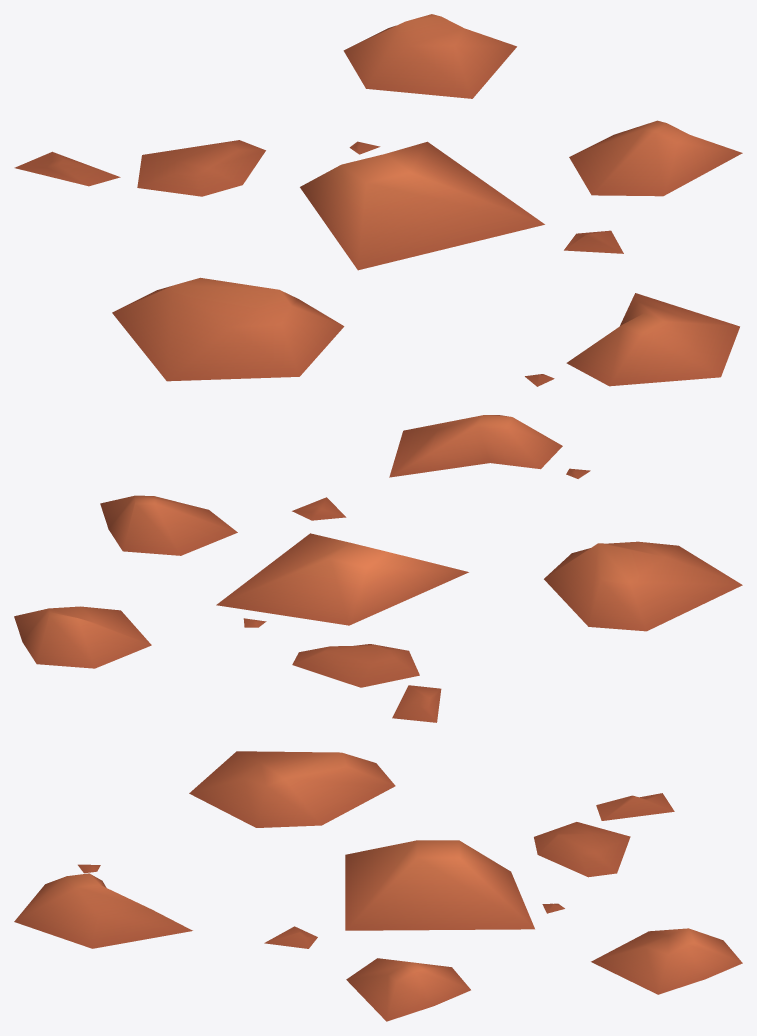
Rendered from Pebbles.006.fbx.
3 renders of one model, top to bottom at view 1: azimuth 30°, elevation 25°; view 2: azimuth 150°, elevation 25°; view 3: azimuth 270°, elevation 25°, orthographic. The views are drawn at different scales.
Parts seen in each view (by area): view 1: Pebbles.006; view 2: Pebbles.006; view 3: Pebbles.006.
Part boxes in pixels (left/top/right/bottom): Pebbles.006: left=14, top=14, right=742, bottom=386; Pebbles.006: left=14, top=415, right=742, bottom=722; Pebbles.006: left=14, top=751, right=742, bottom=1021.
Bounding box in the file's own units: 2.9 × 0.1905 × 3.31.
